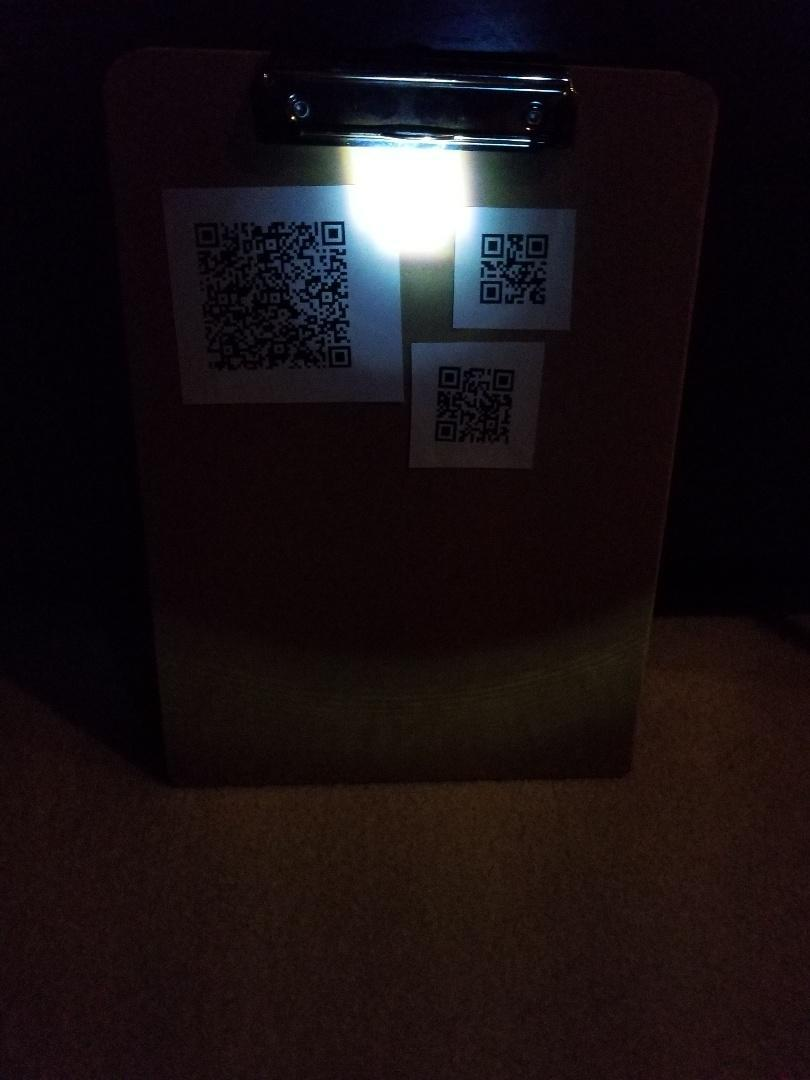Finder pattern: (185, 216, 224, 248), (316, 218, 352, 251), (477, 227, 509, 263), (430, 416, 464, 446), (324, 341, 356, 372), (476, 277, 508, 308), (524, 230, 555, 260), (435, 361, 464, 391), (489, 365, 519, 394)
